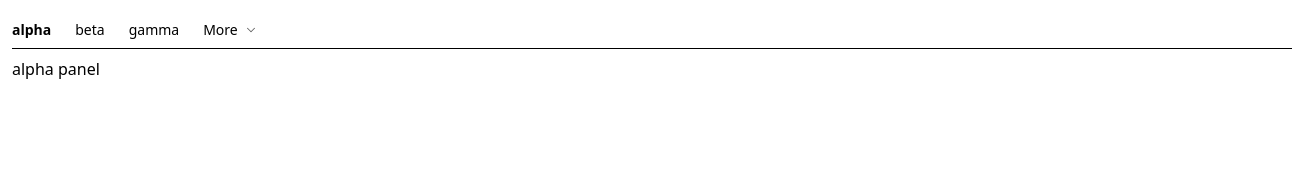
fixed-in-More tabs (overflow='fixed') › designated tab activates from the menu
The image size is (1292, 172).
Press the mouse on the button "More" at [230, 30], box [203, 12, 258, 48]
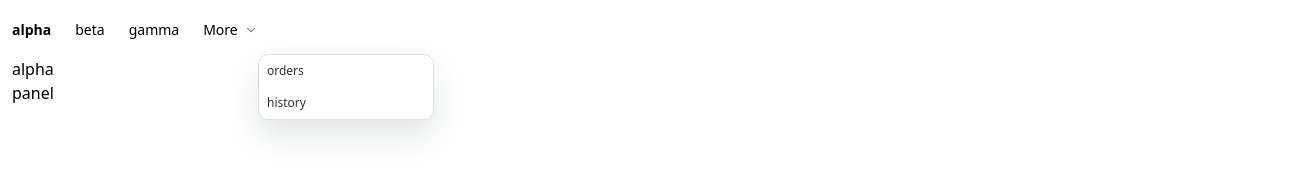
Click the menu item "orders" at [285, 70], box [267, 62, 304, 79]
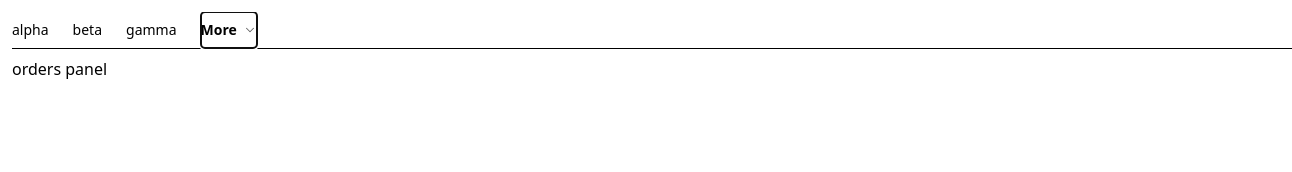
Now the text "orders panel" is shown, box [12, 58, 107, 80]
